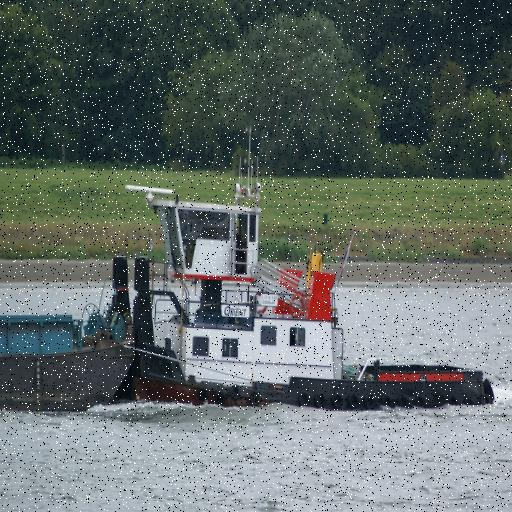tugboat: (109, 173, 500, 423)
